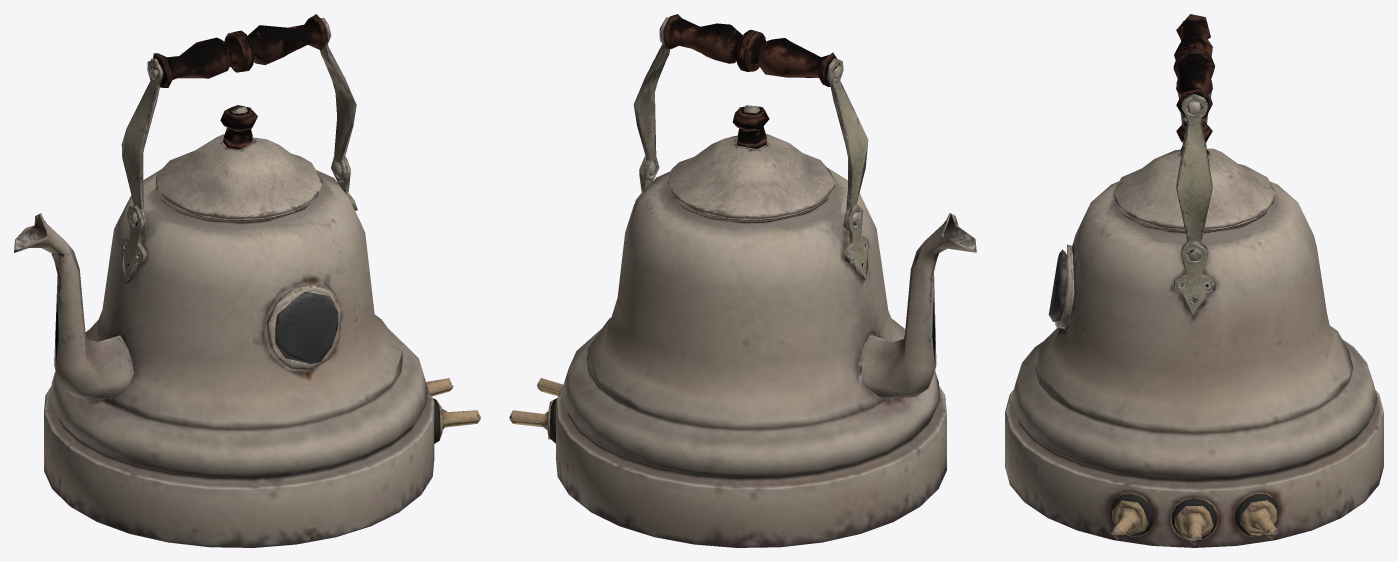
Rendered from vintage_electric_kettle.lod1.glb.
The picture shows the model from 3 angles, left to right: view 1: azimuth 30°, elevation 25°; view 2: azimuth 150°, elevation 25°; view 3: azimuth 270°, elevation 25°; orthographic projection. The views are drawn at different scales.
Parts seen in each view (by area): view 1: vintage_electric_kettle; view 2: vintage_electric_kettle; view 3: vintage_electric_kettle.
Part boxes in pixels (x1,y1,x2,y2): vintage_electric_kettle: [14, 14, 480, 547]; vintage_electric_kettle: [509, 14, 976, 547]; vintage_electric_kettle: [1005, 14, 1383, 547].
Bounding box in the file's own units: 0.3209 × 0.3036 × 0.2486.
2 materials, 2 textured.
